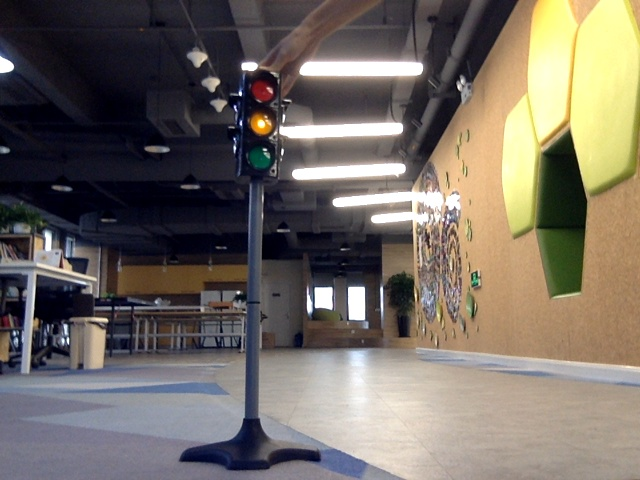yellow: (240, 77, 276, 176)
